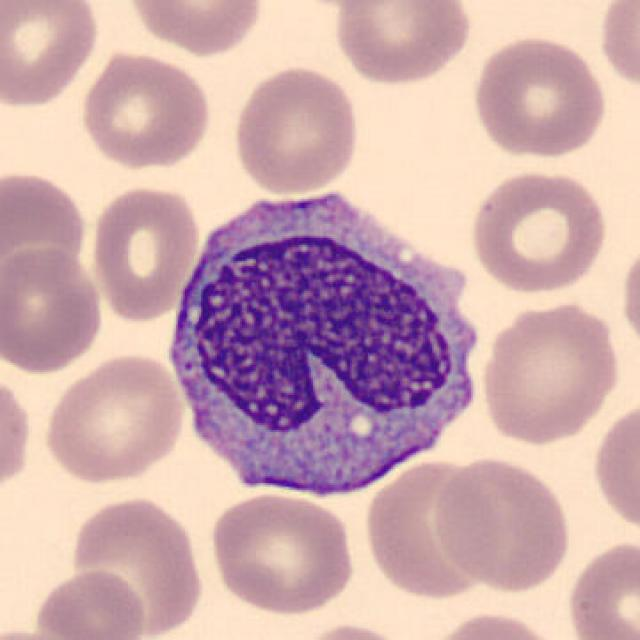Monocyte: (157, 173, 492, 509)
RBC: (476, 296, 624, 448), (64, 492, 208, 638), (361, 455, 499, 603), (39, 349, 187, 487), (432, 453, 574, 594), (205, 488, 358, 617), (466, 166, 610, 296), (229, 61, 363, 198), (468, 32, 610, 160), (76, 48, 214, 171), (87, 182, 203, 322), (0, 244, 107, 376), (330, 0, 474, 88), (0, 164, 92, 298), (0, 0, 103, 111), (30, 566, 150, 640), (122, 0, 266, 58), (562, 536, 638, 640), (588, 393, 638, 543), (418, 608, 572, 640), (0, 365, 34, 506), (595, 0, 640, 95), (617, 231, 640, 360), (284, 619, 422, 640), (0, 626, 91, 640)
